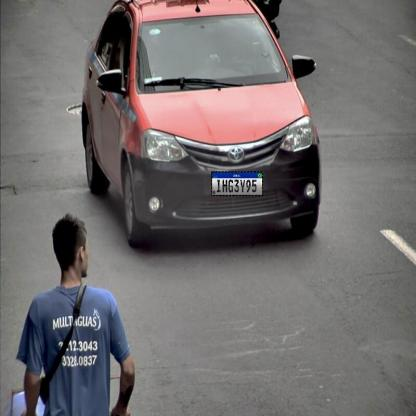PlacaM: (211, 171, 263, 196)
